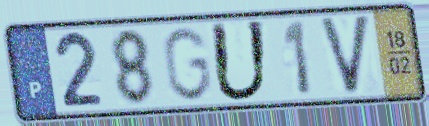1: (279, 18, 314, 99)
2: (51, 28, 109, 111)
8: (109, 26, 158, 109)
G: (159, 25, 215, 105)
U: (207, 18, 272, 105)
V: (316, 12, 373, 99)
